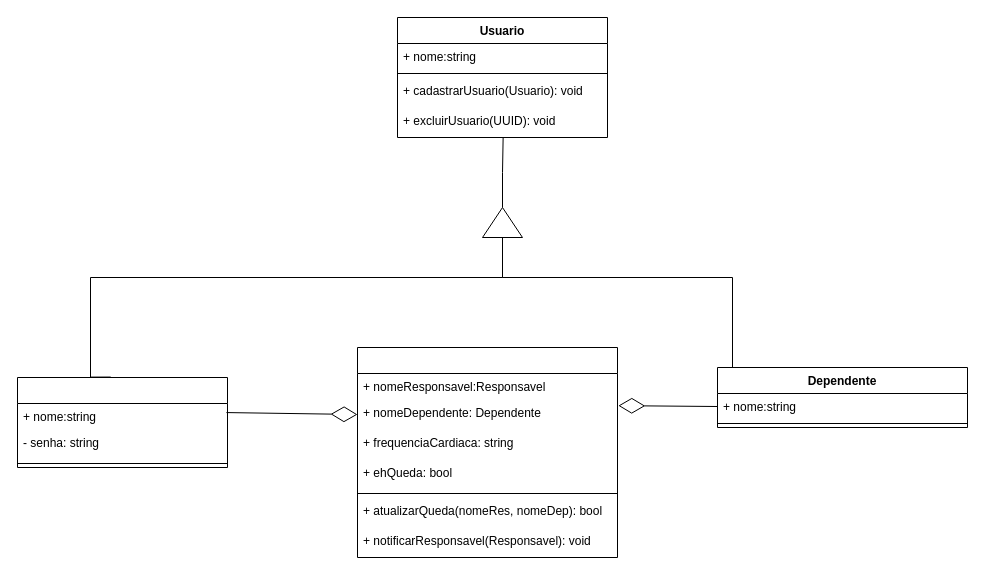
Some shapes in this 985 by 578 pixel diagram are drawn without their labels. The shapes that lost their labels are listed below. From the top down, each one's box as (x1, y1, x2, y2) in pixels, then its label:
(16, 376, 228, 468): Responsavel
(356, 346, 618, 558): Monitora
